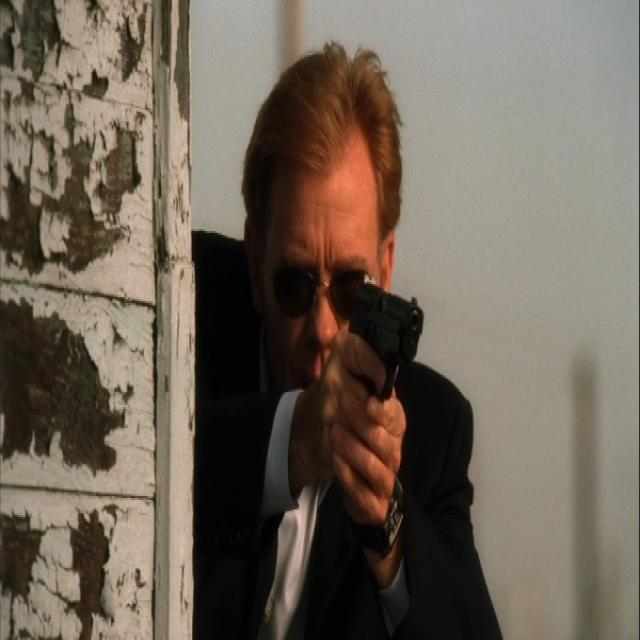weapons: (335, 251, 433, 456)
